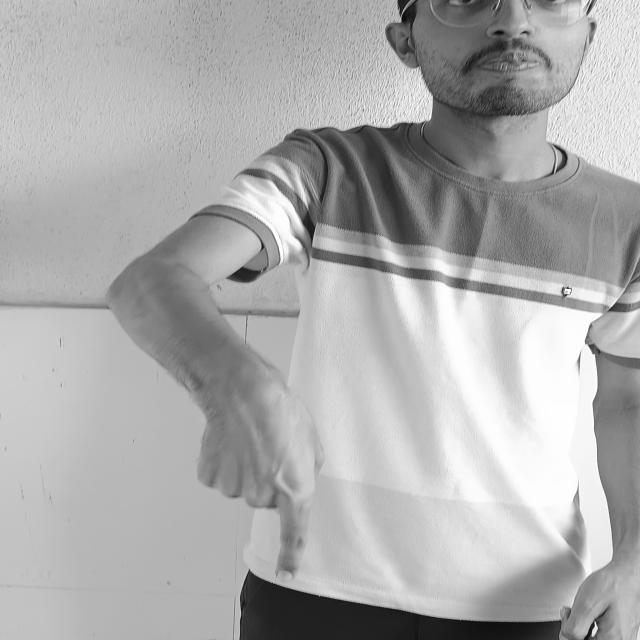Now: (162, 336, 334, 595)
